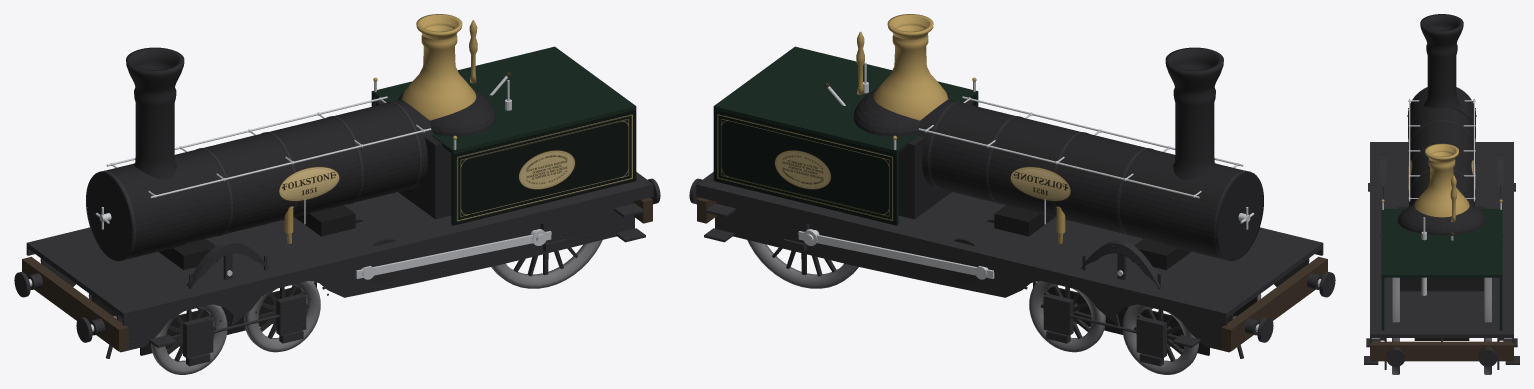
File: crampton-locomotive-folkestone.glb
The picture shows the model from 3 angles, left to right: view 1: azimuth 30°, elevation 25°; view 2: azimuth 150°, elevation 25°; view 3: azimuth 270°, elevation 25°; orthographic projection. The views are drawn at different scales.
Visible parts, largest first — view 1: Footplate, BoilerBarrel, PanelLining.001, SplasherTop, Frame.001, Smokebox, Chimney, RearStack, Valance.001, BufferBeam, Firebox, LeadWheel2.001 (+13 smaller); view 2: Footplate, BoilerBarrel, PanelLining, SplasherTop, Frame, Smokebox, Chimney, RearStack, Valance, BufferBeam, Firebox, LeadWheel2 (+13 smaller); view 3: Footplate, SplasherTop, BoilerBarrel, Chimney, BufferBeam.001, RearStack, FireboxTop, Firebox, Smokebox, Driver, Driver.001, BufferHead.002 (+10 smaller).
Part boxes in pixels (x1,y1,x2,y2): Footplate: (26, 172, 653, 318); BoilerBarrel: (174, 99, 433, 243); PanelLining.001: (453, 110, 636, 225); SplasherTop: (371, 46, 636, 154); Frame.001: (116, 201, 634, 352); Smokebox: (86, 163, 192, 261); Chimney: (126, 47, 184, 179); RearStack: (401, 14, 476, 120); Valance.001: (122, 189, 653, 325); BufferBeam: (22, 256, 128, 351); Firebox: (376, 100, 451, 219); LeadWheel2.001: (244, 280, 320, 352); Footplate: (696, 172, 1323, 318); BoilerBarrel: (916, 99, 1175, 243); PanelLining: (713, 110, 896, 225); SplasherTop: (713, 46, 978, 154); Frame: (715, 201, 1233, 352); Smokebox: (1157, 163, 1263, 261); Chimney: (1165, 47, 1223, 179); RearStack: (873, 14, 948, 120); Valance: (696, 189, 1227, 325); BufferBeam: (1221, 256, 1327, 351); Firebox: (898, 100, 973, 219); LeadWheel2: (1029, 280, 1105, 352); Footplate: (1370, 142, 1513, 337); SplasherTop: (1381, 208, 1502, 277); BoilerBarrel: (1409, 108, 1474, 206); Chimney: (1420, 14, 1463, 108); BufferBeam.001: (1370, 341, 1513, 361); RearStack: (1414, 143, 1469, 217); FireboxTop: (1398, 204, 1485, 235); Firebox: (1397, 206, 1486, 291); Smokebox: (1408, 87, 1475, 142); Driver: (1484, 277, 1491, 374); Driver.001: (1392, 277, 1399, 374); BufferHead.002: (1478, 348, 1497, 366).
Bounding box in the file's own units: 8.3 × 4.04 × 2.64.
Materials: 12 (3 with a texture image).
